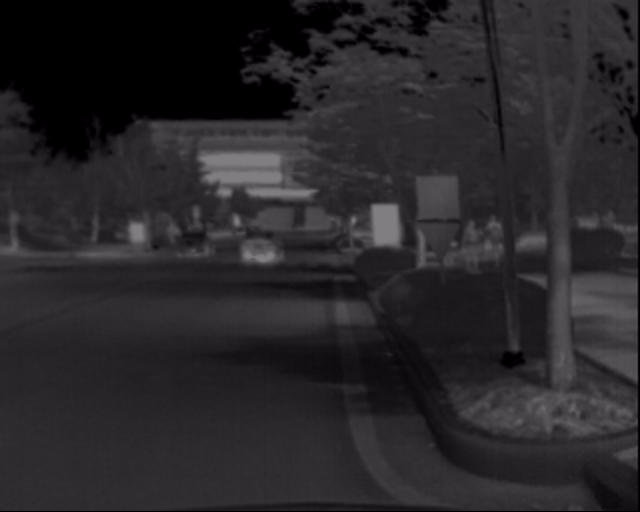person: (485, 208, 509, 277), (458, 215, 483, 275)
